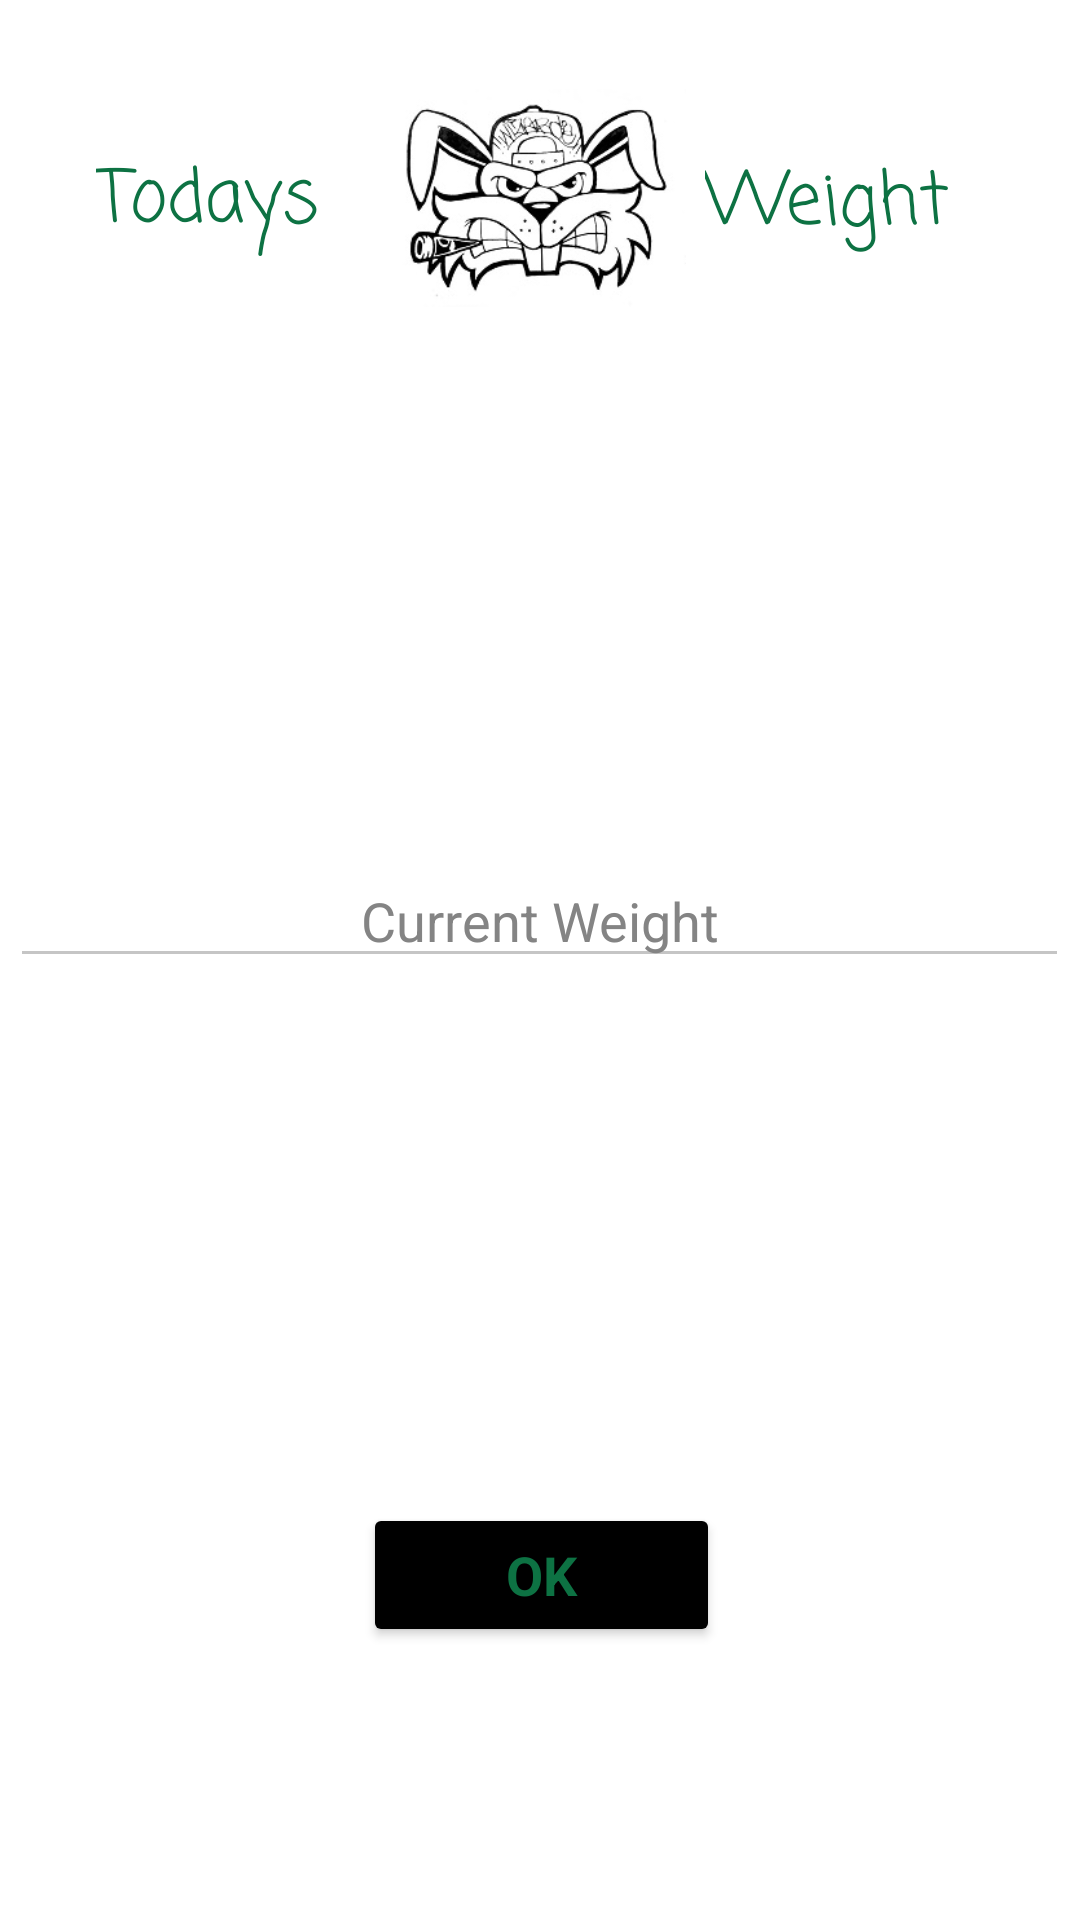

Icon bounding boxes for this 1080x1920 phone screenshot, format (x1=x1, y1=y1, x2=x2, y2=y2):
rabbitimg: (x1=406, y1=104, x2=667, y2=296)
